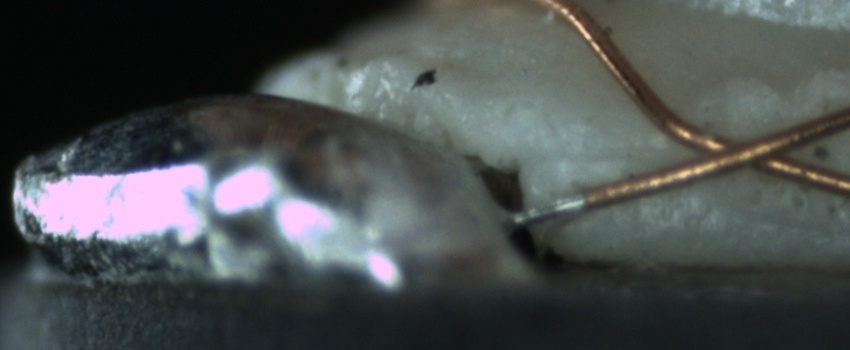CL: (657, 120, 830, 181)
DL: (542, 124, 681, 186)
TS: (509, 193, 579, 226)
